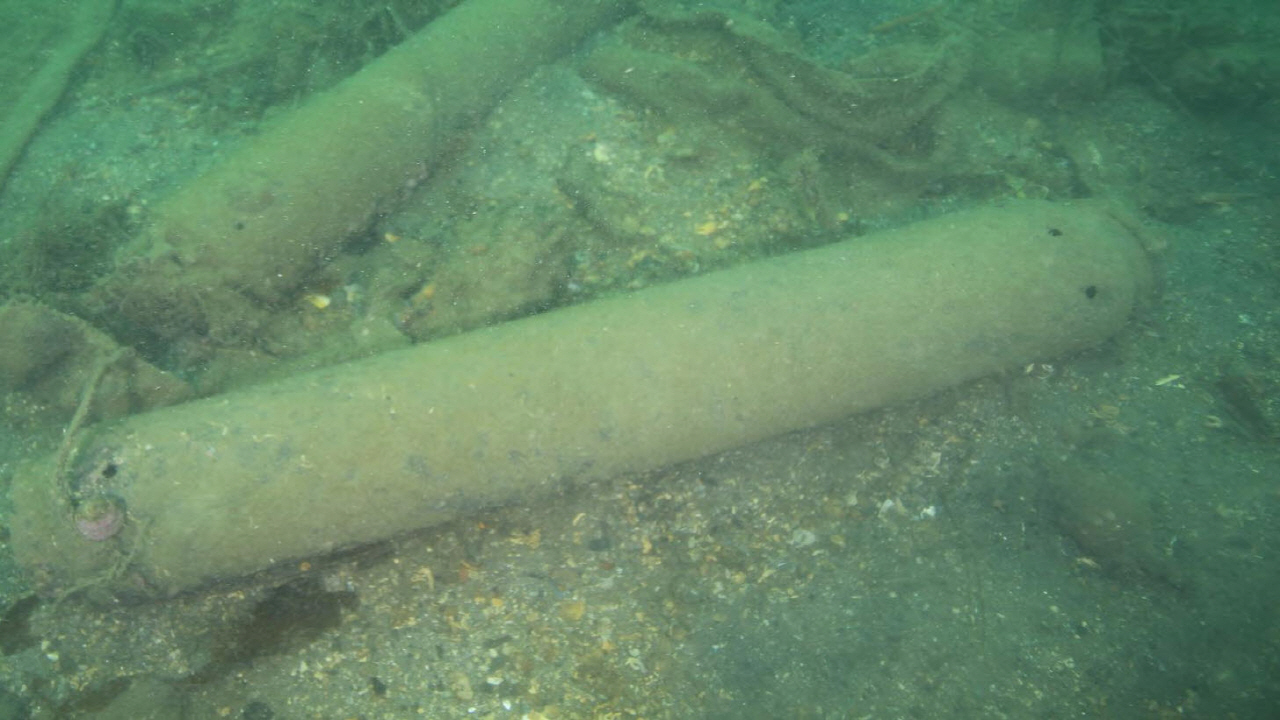bundle of ropes: (18, 290, 149, 613)
eel fish trap: (3, 197, 1156, 602), (140, 0, 631, 302)
